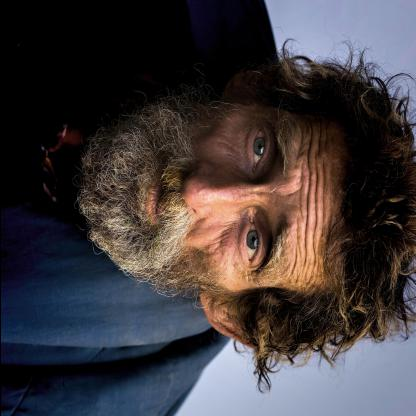Eye: (237, 210, 265, 272), (243, 116, 270, 176)
Mouth: (147, 163, 167, 232)
Nose: (182, 166, 255, 216)
